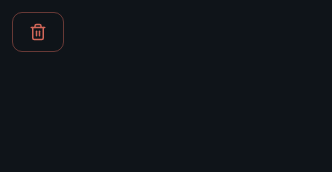
Test: ConfirmDelete options › uses the prompt and accessible name, announces errors, and resets after success
Click the button named "Delete “x.mkv”": x=38, y=32 x1=12 y1=12 x2=64 y2=52
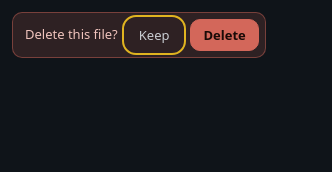
Now the text "Delete this file?" is shown, box x1=25 y1=25 x2=118 y2=45
Click the button "Delete": x=225, y=35 x1=190 y1=19 x2=259 y2=51
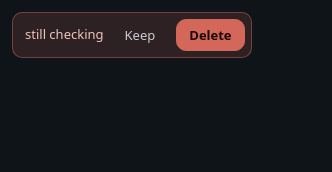
Now the message reads "still checking", box x1=25 y1=25 x2=104 y2=43
Click the button "Delete": x=210, y=35 x1=176 y1=19 x2=245 y2=51
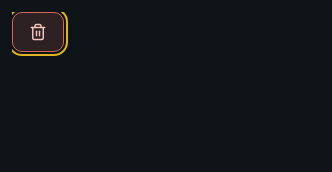
Now the button named "Delete “x.mkv”" is enabled, box x1=12 y1=12 x2=64 y2=52
